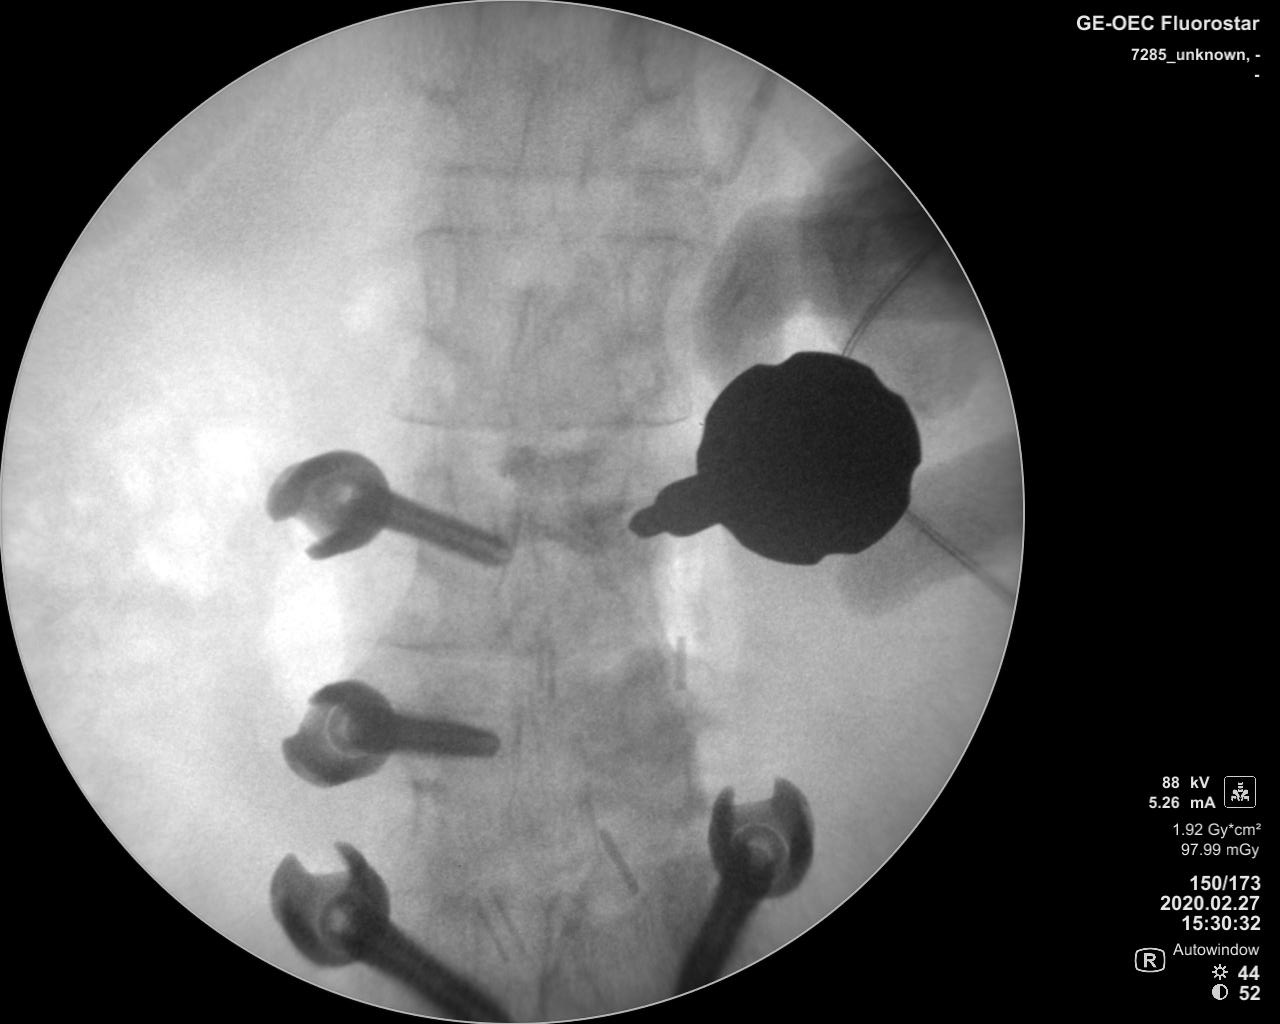eyes: (411, 8, 486, 102), (415, 227, 463, 336), (623, 235, 670, 341), (636, 23, 692, 100)
line: (423, 154, 709, 189), (410, 220, 695, 249), (385, 408, 698, 433)
nose: (496, 289, 548, 456), (506, 80, 560, 230), (493, 501, 544, 657)
